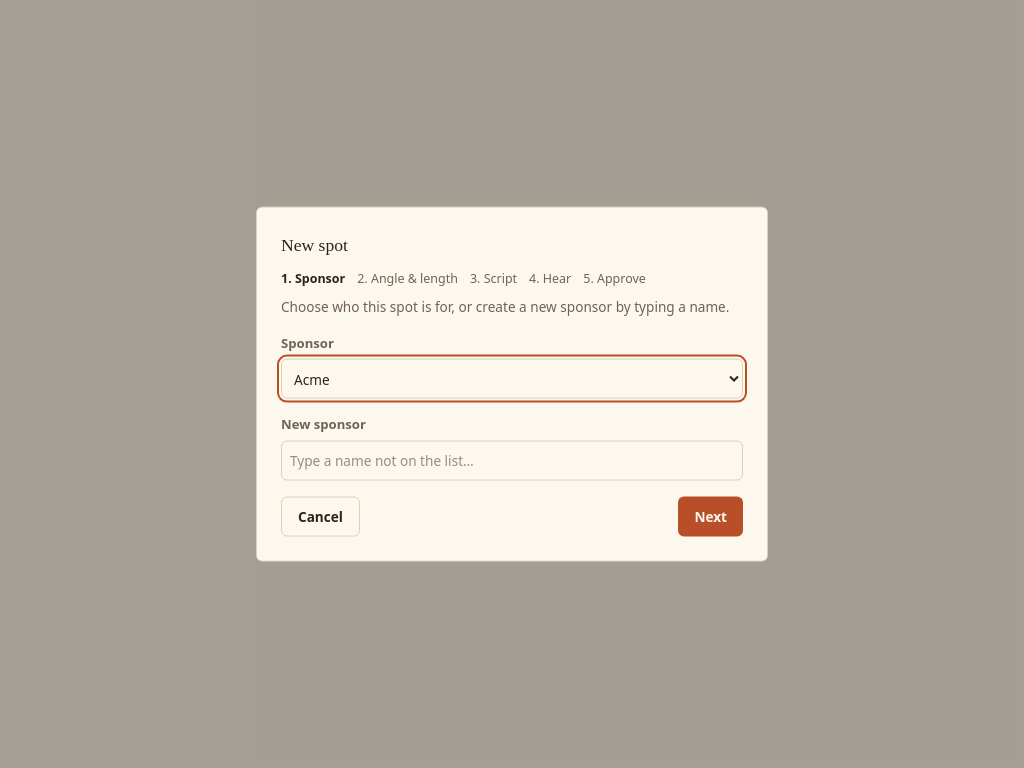
Test case: Feature: New spot is a five-step wizard › Scenario: the Angle & length step's own defaults (F174.1, F174.2) › the created spot is titled 'Acme spot' — PLAN T451 ruling (SPEC F171.7)
The image size is (1024, 768).
Click the button "Next" at (711, 516), box [678,496,743,536]
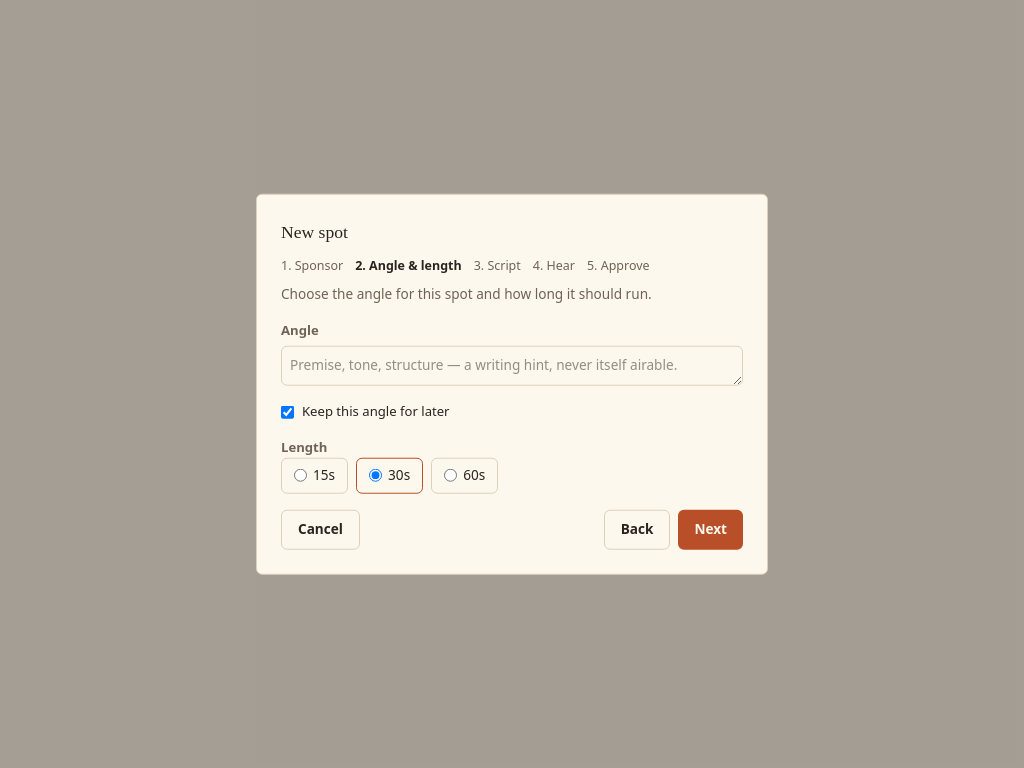
Result: the text "Choose the angle for this spot and how long it should run." is shown at [281,284,652,303]
Replace the text in the text box labelled "Angle" with "Fresh roast before six. Warm pastries all morning." at (512, 366), box [281,346,743,386]
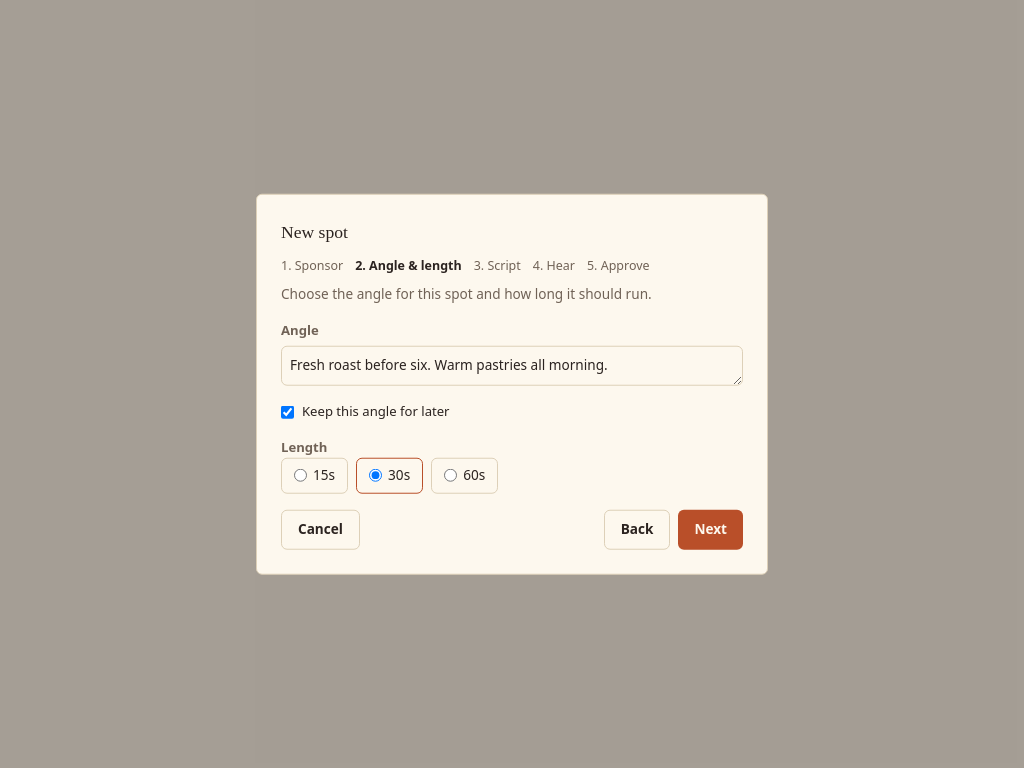
Click the checkbox labelled "Keep this angle for later" at (288, 412), box [281,405,294,418]
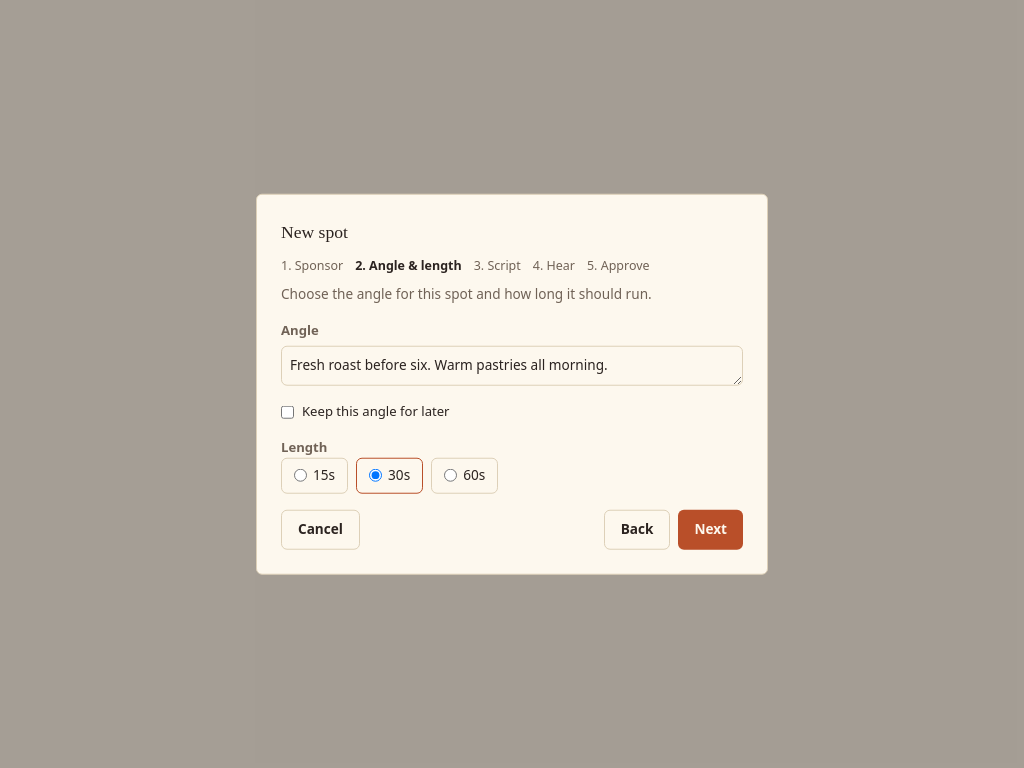
Click the button "Next" at (711, 529), box [678,509,743,549]
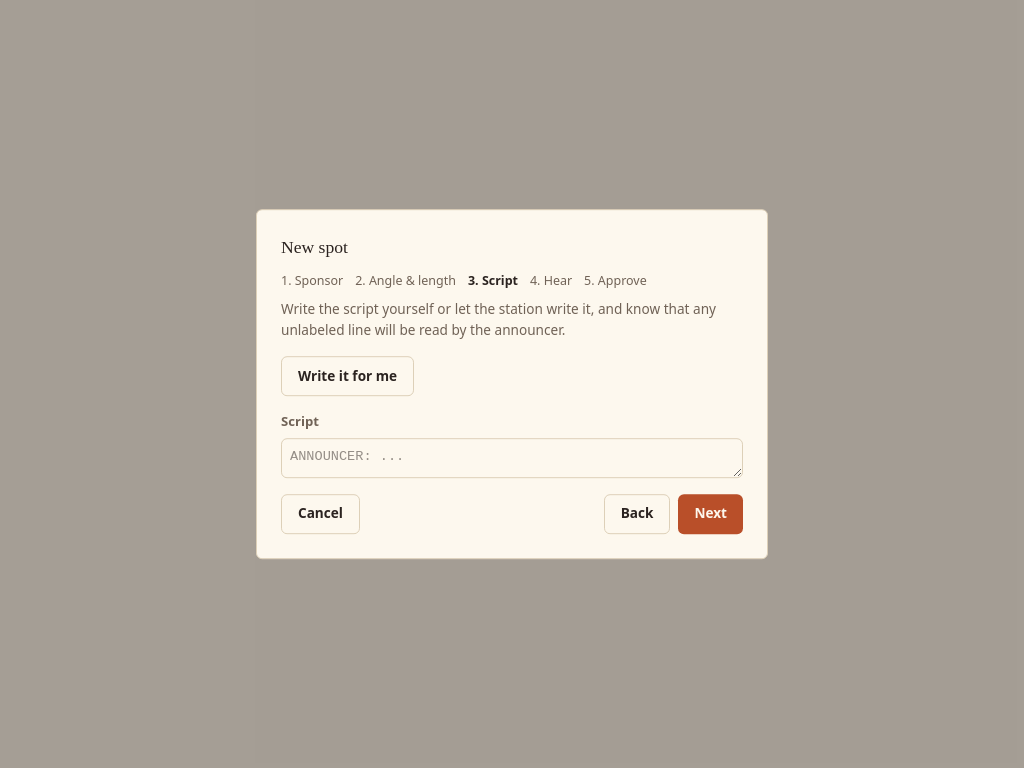
Result: the text "Write the script yourself or let the station write it, and know that any unlabeled line will be read by the announcer." is shown at [281,299,716,339]
